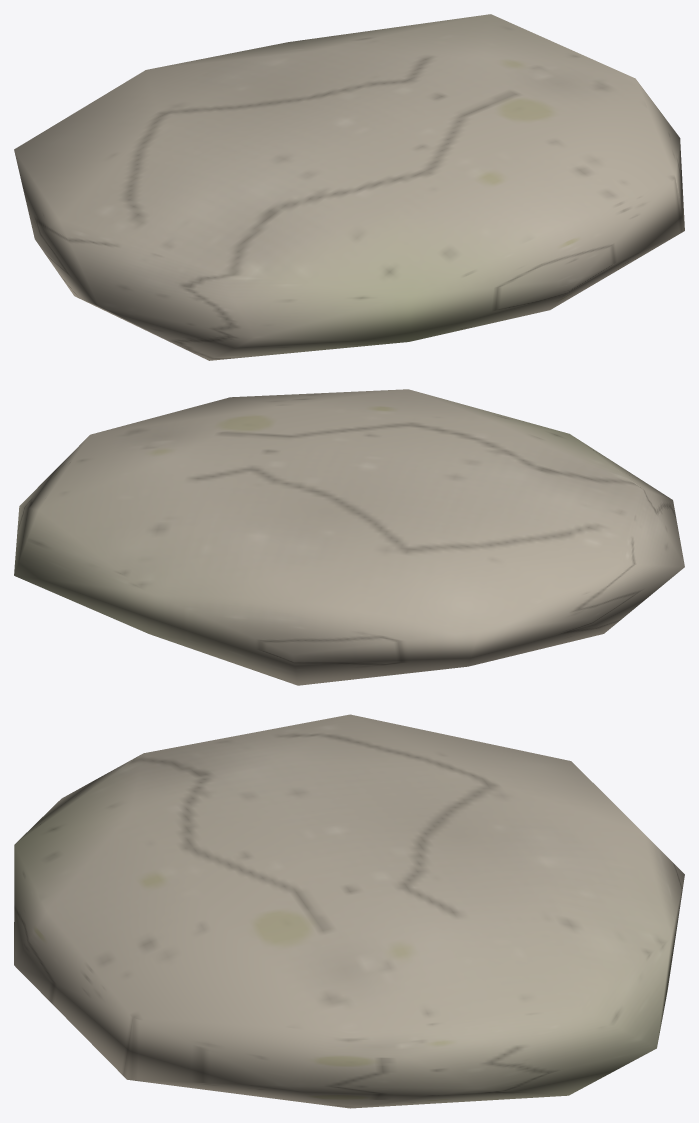
The model's file is region-prop-237.glb.
3 views of the same model, one above another, from view 1: azimuth 30°, elevation 25°; view 2: azimuth 150°, elevation 25°; view 3: azimuth 270°, elevation 25° (orthographic). The views are drawn at different scales.
Parts seen in each view (by area): view 1: props_rock_0; view 2: props_rock_0; view 3: props_rock_0.
Boxes of the visible parts, x1,y1,x2,y2 form: props_rock_0: [14, 14, 684, 360]; props_rock_0: [14, 389, 684, 685]; props_rock_0: [14, 714, 684, 1108].
Size of the model in its own units: 0.5219 by 0.1263 by 0.4394.
1 material, 1 textured.
